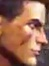kevin: (2, 0, 46, 65)
